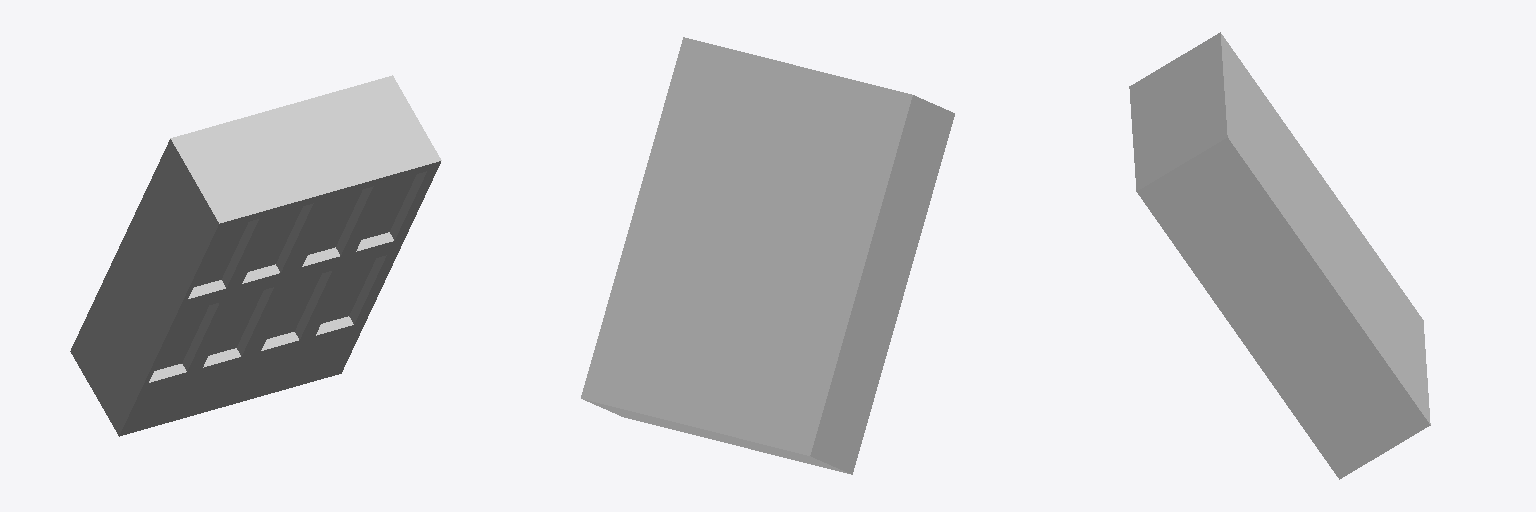
The model's file is Floor Bookcase.obj.
The picture shows the model from 3 angles: view 1: azimuth 30°, elevation 25°; view 2: azimuth 150°, elevation 25°; view 3: azimuth 270°, elevation 25°; orthographic projection.
Size of the model in its own units: 2.81 by 4.02 by 3.18.